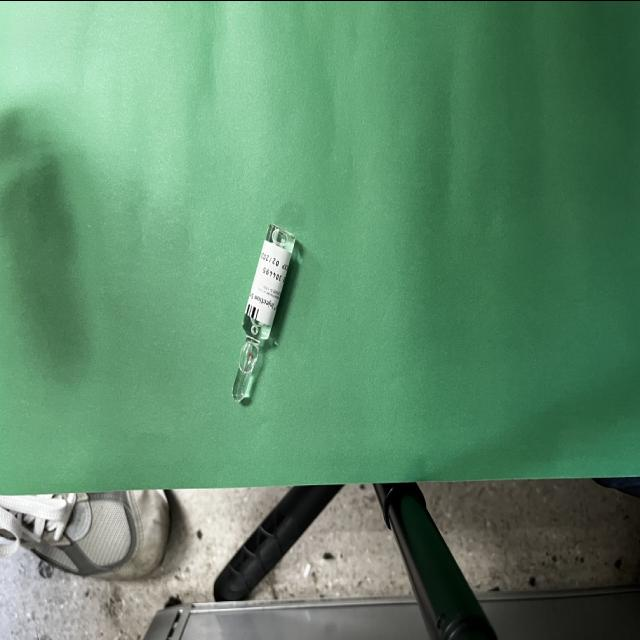Ampoules: (232, 224, 296, 402)
